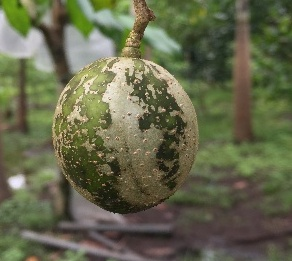Coc: (53, 56, 199, 215)
